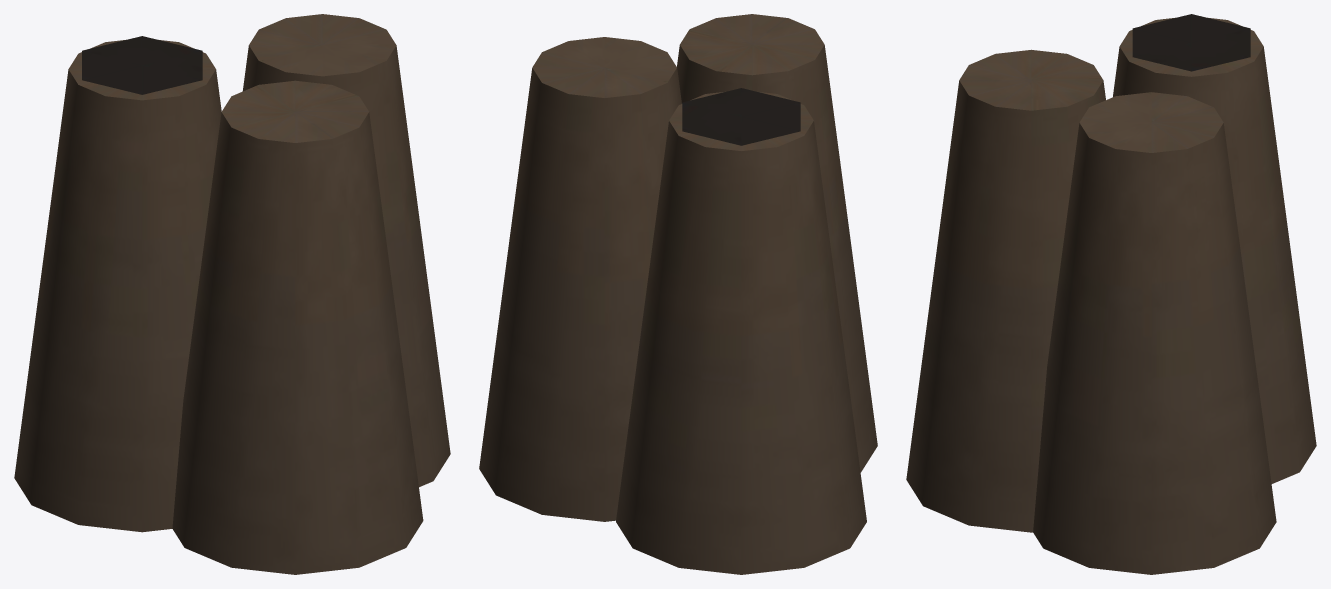
File: coal_sacks.glb
3 renders of one model, left to right at view 1: azimuth 30°, elevation 25°; view 2: azimuth 150°, elevation 25°; view 3: azimuth 270°, elevation 25°, orthographic. The views are drawn at different scales.
Visible parts, largest first — view 1: props_0_0; view 2: props_0_0; view 3: props_0_0.
Boxes of the visible parts, bbox=[...] form: props_0_0: bbox=[14, 14, 450, 574]; props_0_0: bbox=[479, 14, 877, 574]; props_0_0: bbox=[906, 14, 1316, 574].
Size of the model in its own units: 1.07 by 1.11 by 1.02.
1 material, 1 textured.
